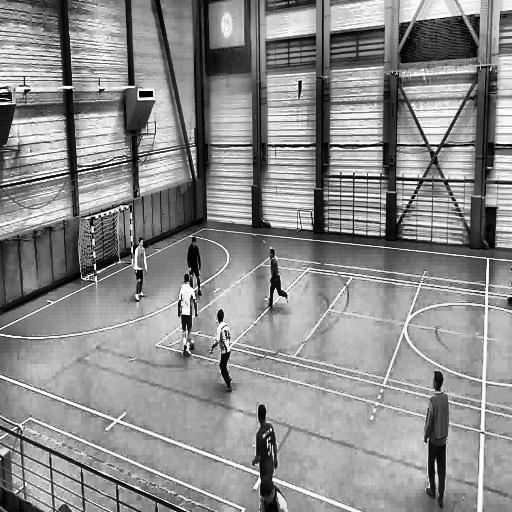ball: (190, 340, 196, 352)
player: (423, 369, 450, 508), (252, 402, 278, 491), (210, 308, 236, 396), (267, 245, 291, 313), (132, 236, 149, 302), (177, 273, 189, 355), (190, 236, 202, 296)
